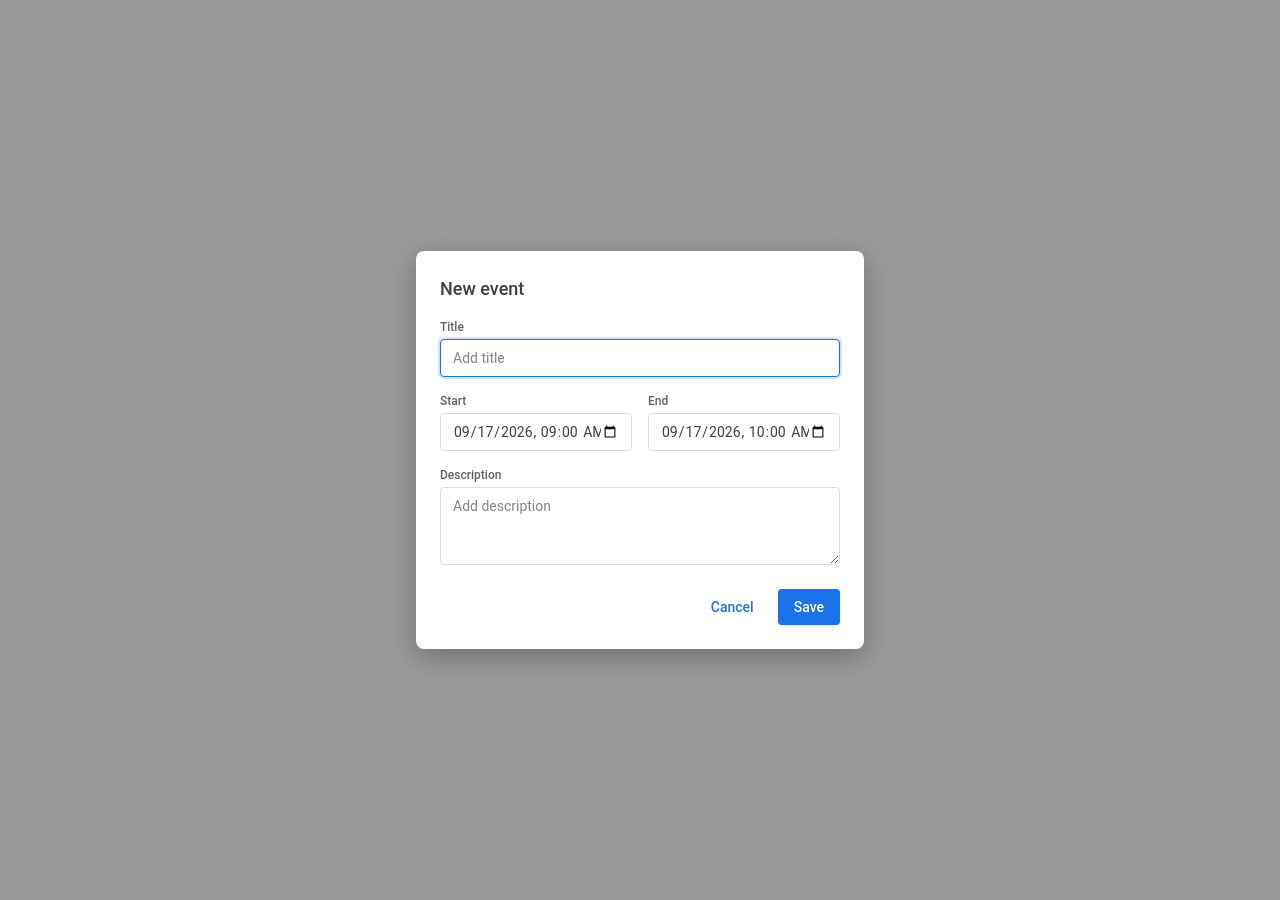
it: EventFormDialog › clears a field error once the field changes
The image size is (1280, 900).
Click the button "Save" at x=809, y=607, box top-left (778, 589), bottom-right (840, 625)
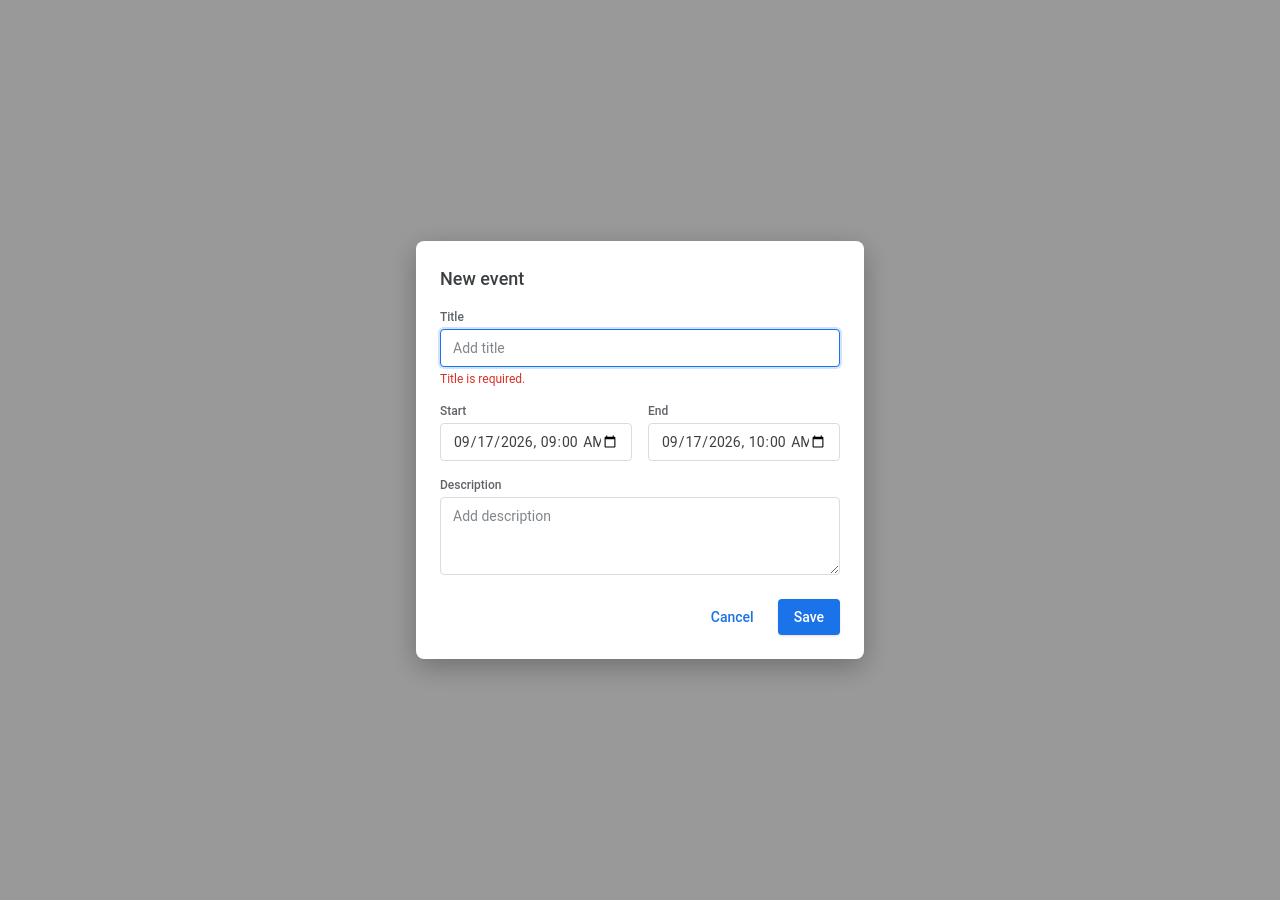
Now the text "Title is required." is shown, box top-left (440, 372), bottom-right (525, 386)
Type "x" into the field labelled "Title" at x=640, y=348, box top-left (440, 329), bottom-right (840, 367)
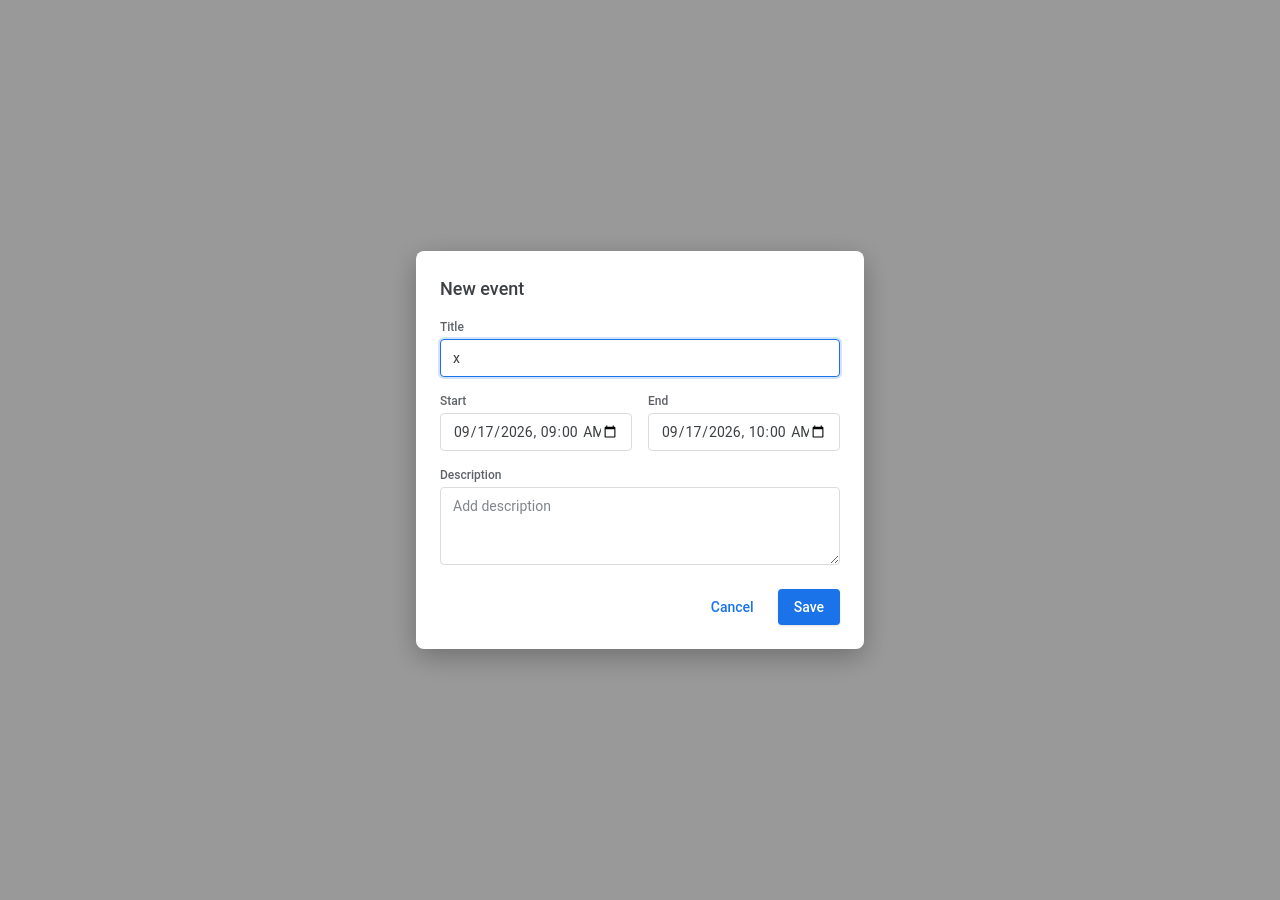
Now the text "Title is required." is gone
